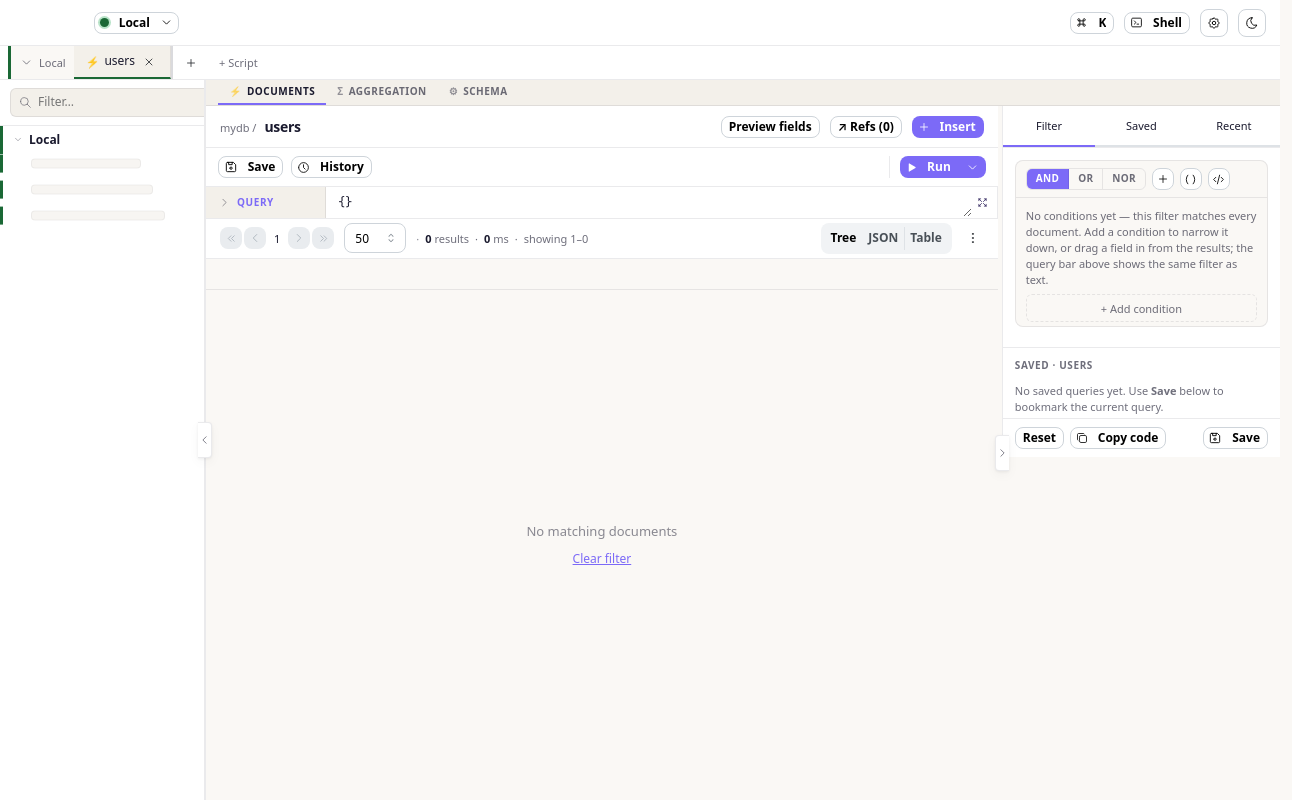
Test case: QueryBar - Run button › after a successful run, result count appears in result bar
This screenshot has width=1292, height=800.
Click the button with test id "query-run-btn" at (930, 167), box [900,156,959,178]
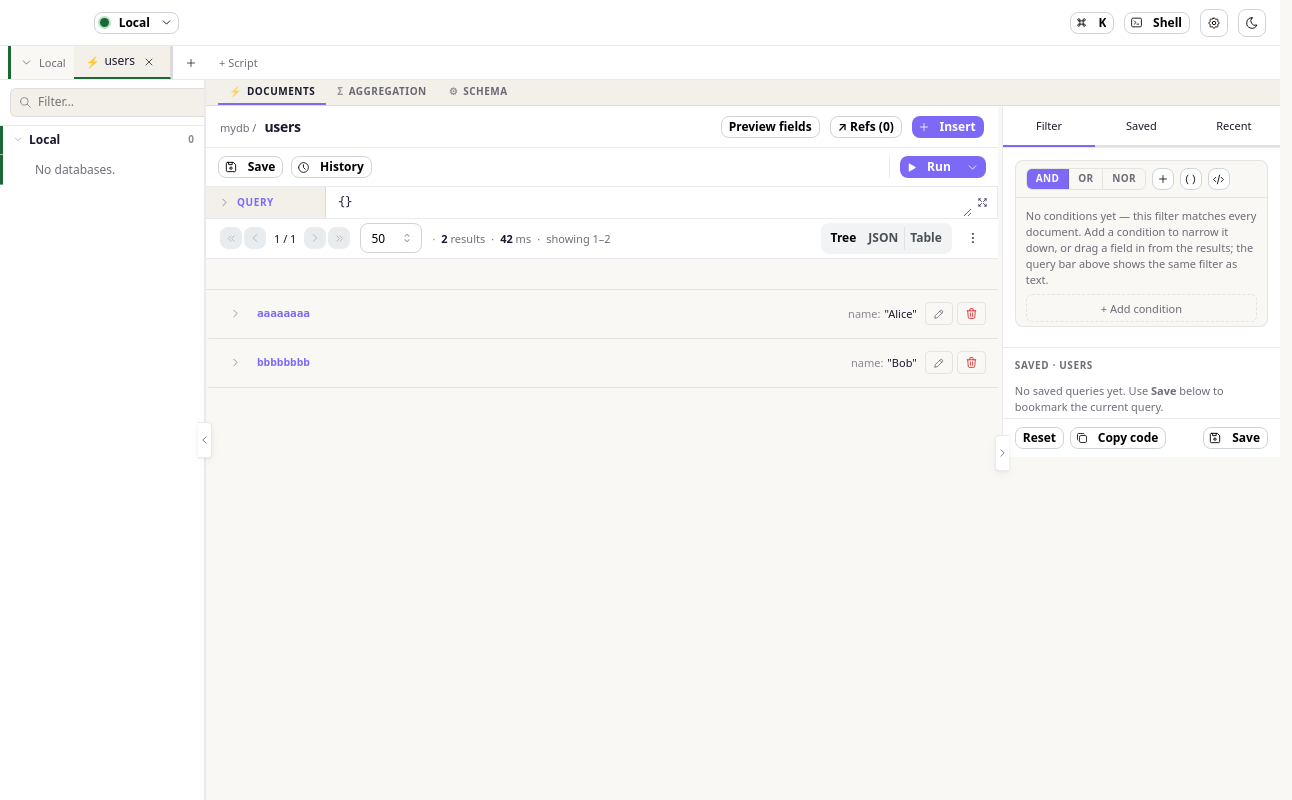
Expected: the text "2" is shown, [441,231,448,246]
Expected: the text "42" is shown, [500,231,513,246]
